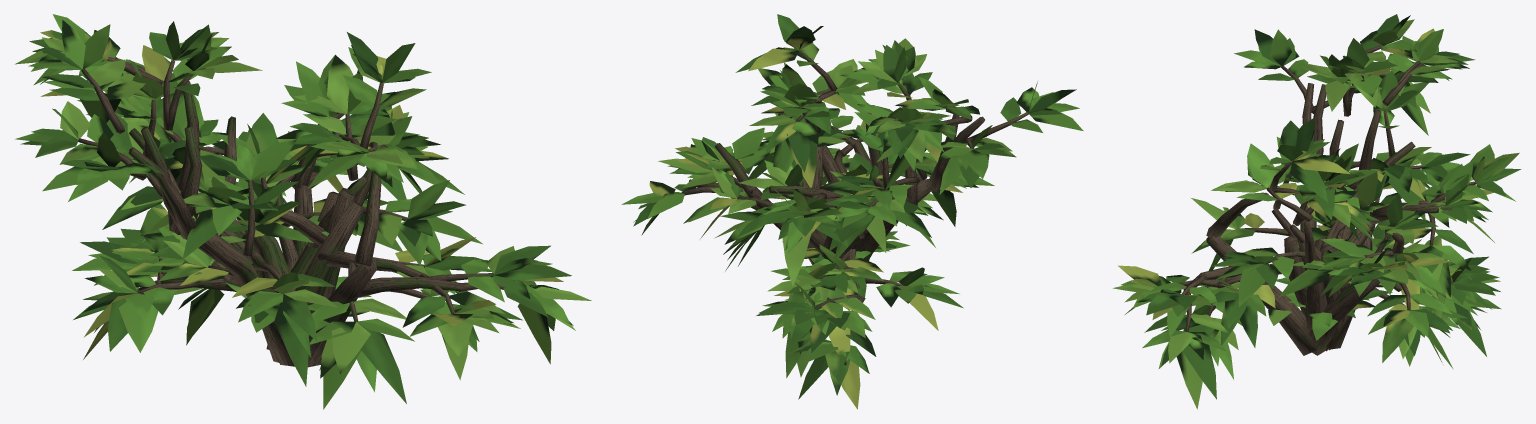
The model's file is Shrub_Thicket.glb.
The picture shows the model from 3 angles, left to right: view 1: azimuth 30°, elevation 25°; view 2: azimuth 150°, elevation 25°; view 3: azimuth 270°, elevation 25°; orthographic projection. The views are drawn at different scales.
Visible parts, largest first — view 1: Shrub_Thicket__Leaves, Shrub_Thicket__Stems; view 2: Shrub_Thicket__Leaves, Shrub_Thicket__Stems; view 3: Shrub_Thicket__Leaves, Shrub_Thicket__Stems.
Part boxes in pixels (x1,y1,x2,y2): Shrub_Thicket__Leaves: (15, 14, 591, 409); Shrub_Thicket__Stems: (78, 57, 504, 367); Shrub_Thicket__Leaves: (621, 14, 1083, 409); Shrub_Thicket__Stems: (680, 50, 1028, 311); Shrub_Thicket__Leaves: (1113, 14, 1521, 409); Shrub_Thicket__Stems: (1178, 45, 1476, 355).
Size of the model in its own units: 14.64 by 11.2 by 13.59.
2 materials, 2 textured.
